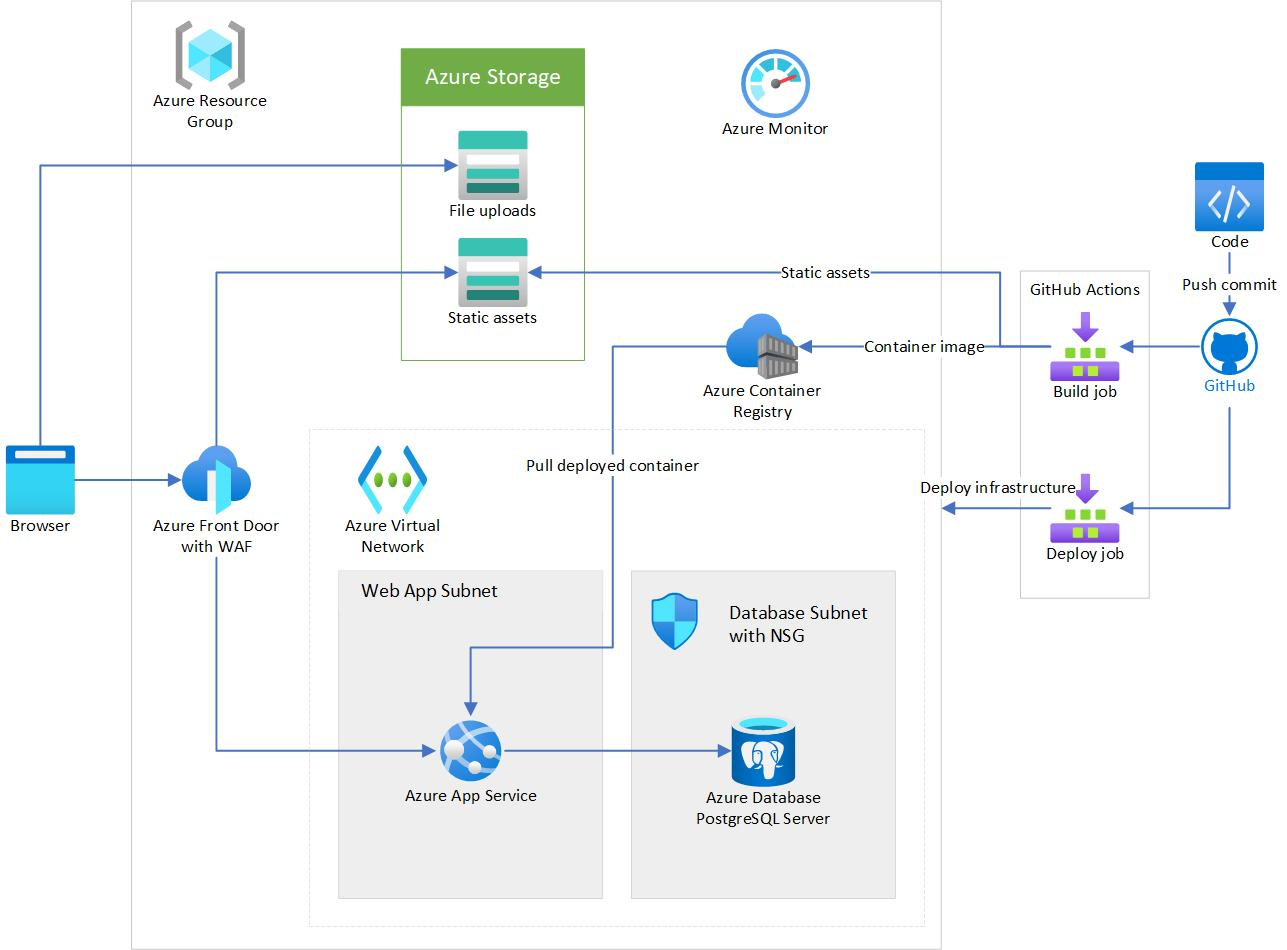Backend: (718, 309, 801, 383)
Database: (720, 711, 811, 795)
Networking: (361, 433, 424, 524)
